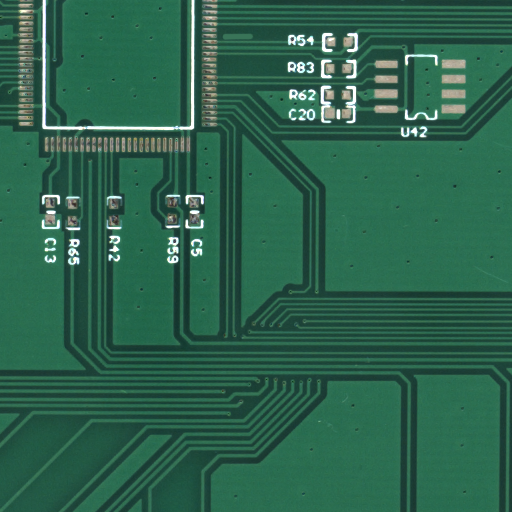Spurious_copper: (238, 36, 270, 43)
